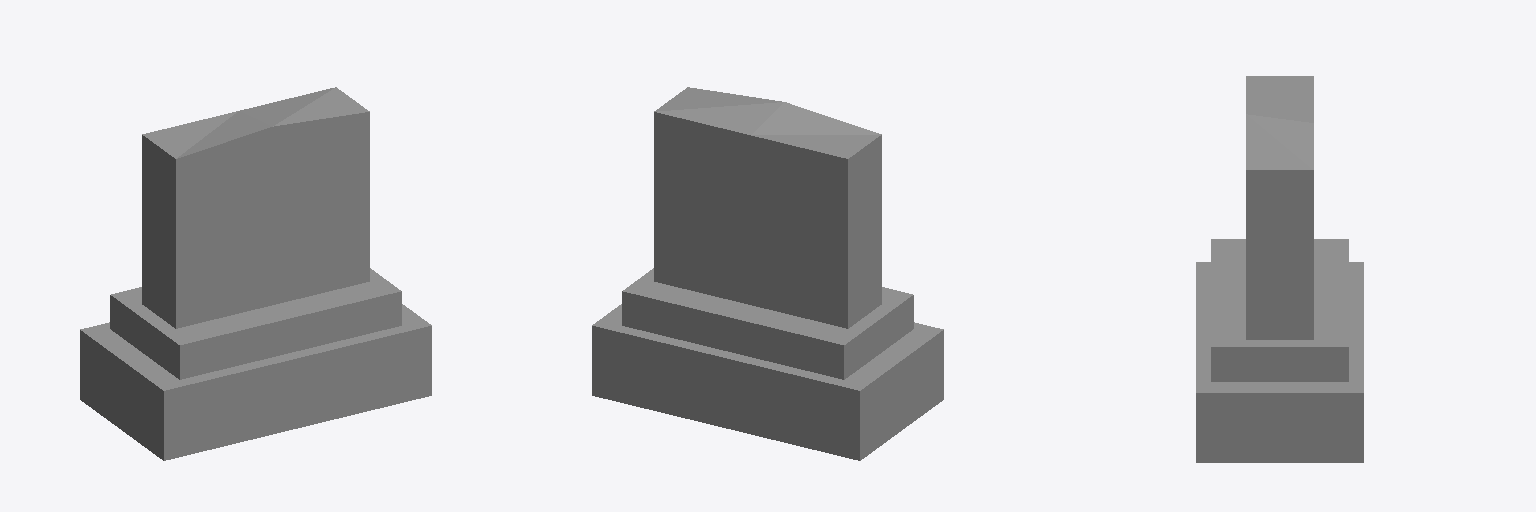
File: grave.obj
3 views of the same model, side by side, from view 1: azimuth 30°, elevation 25°; view 2: azimuth 150°, elevation 25°; view 3: azimuth 270°, elevation 25° (orthographic).
Parts seen in each view (by area): view 1: Cube; view 2: Cube; view 3: Cube.
Part boxes in pixels (bbox=[...]): Cube: bbox=[80, 87, 431, 460]; Cube: bbox=[592, 87, 943, 460]; Cube: bbox=[1196, 76, 1363, 462].
Size of the model in its own units: 2.86 by 2.89 by 1.55.